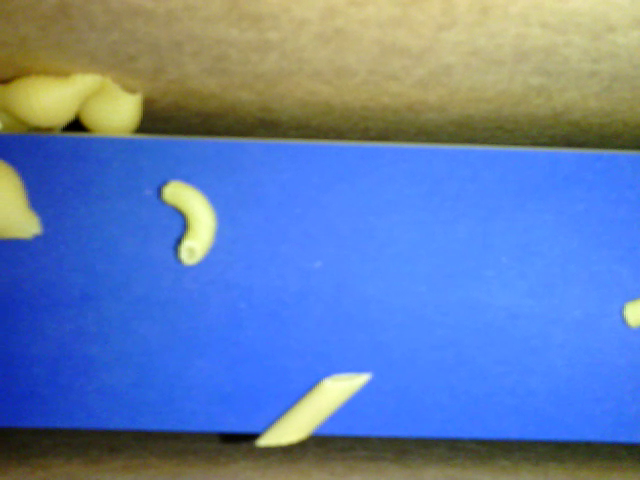elbow: (161, 178, 219, 265), (619, 301, 639, 326)
penne: (247, 369, 374, 450)
shell: (1, 73, 103, 123), (79, 73, 145, 136), (1, 158, 44, 250), (1, 111, 64, 136)
